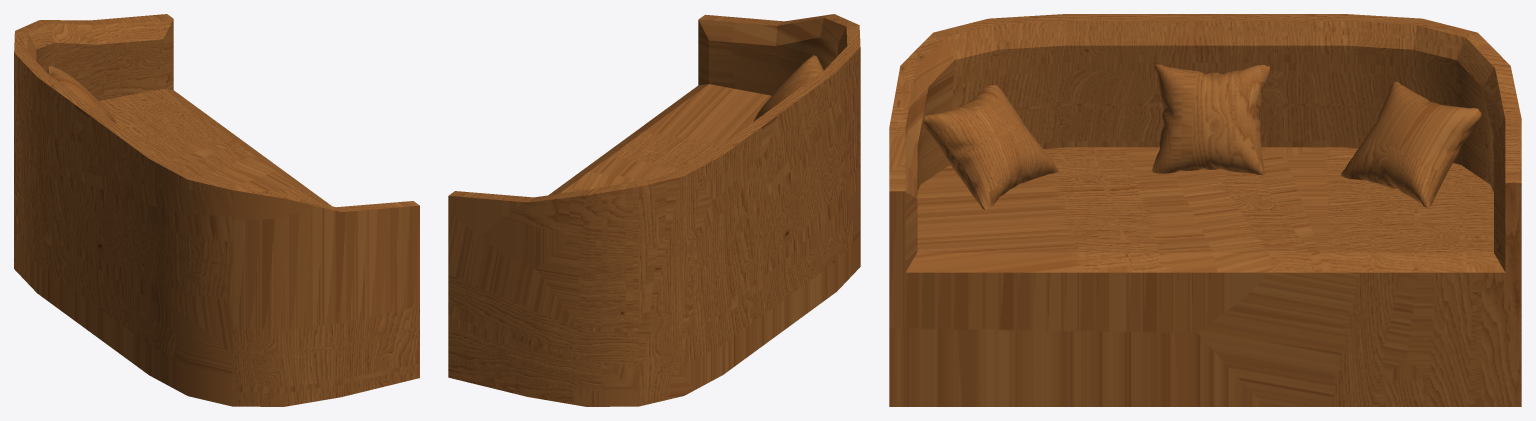
Rendered from ASM - PBR Metallic Roughness.gltf.
3 views of the same model, side by side, from view 1: azimuth 30°, elevation 25°; view 2: azimuth 150°, elevation 25°; view 3: azimuth 270°, elevation 25° (orthographic). The views are drawn at different scales.
Visible parts, largest first — view 1: Box001; view 2: Box001; view 3: Box001.
Part boxes in pixels (x1,y1,x2,y2): Box001: (14,14,419,406); Box001: (448,14,860,406); Box001: (889,14,1521,406).
Bounding box in the file's own units: 0.8237 × 0.8503 × 1.8.
